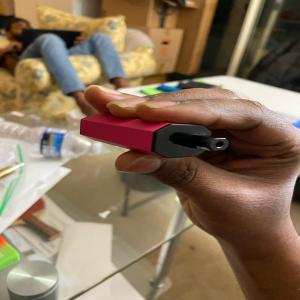Blume-E-Ciggirate: (78, 111, 231, 161)
